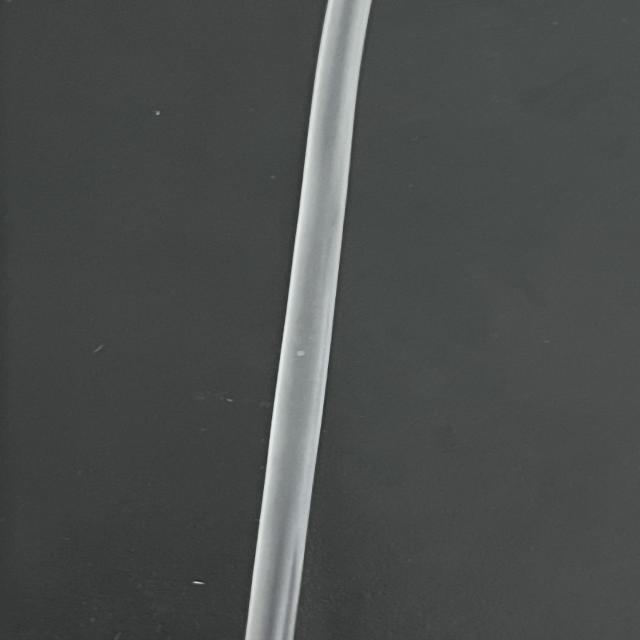bubble: (290, 341, 334, 375)
